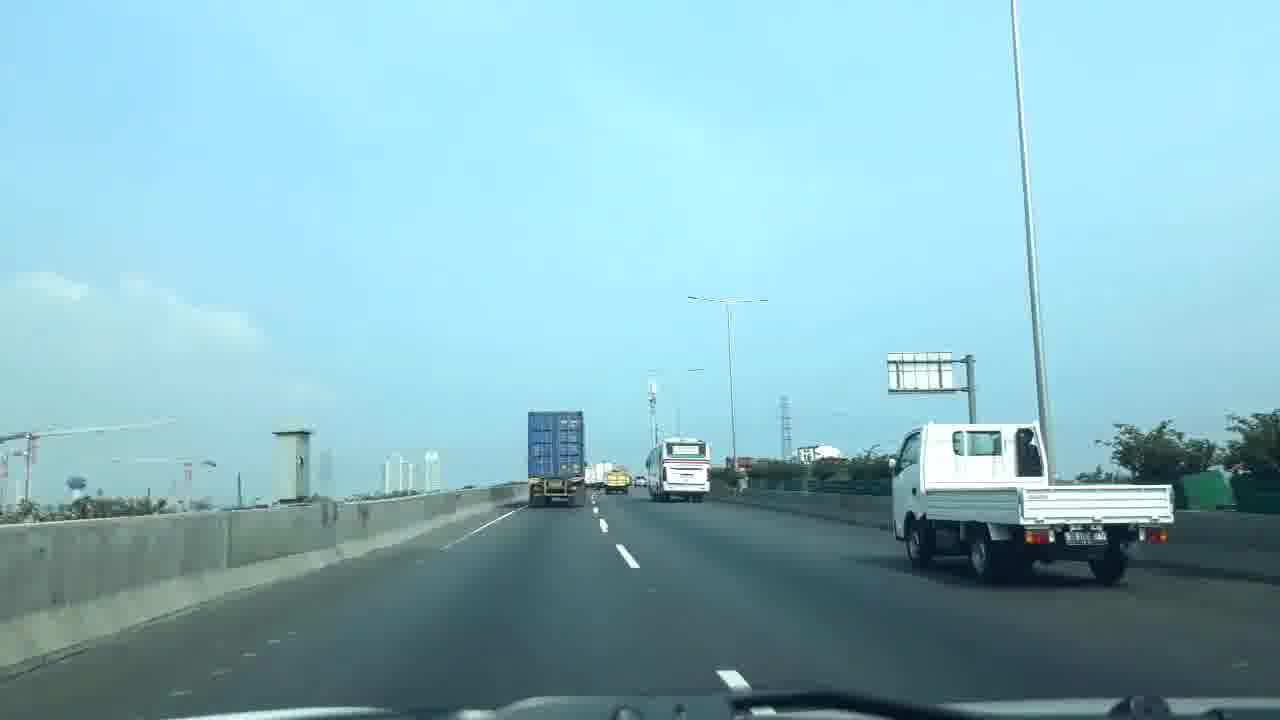plate_positive: (1063, 531, 1108, 546)
